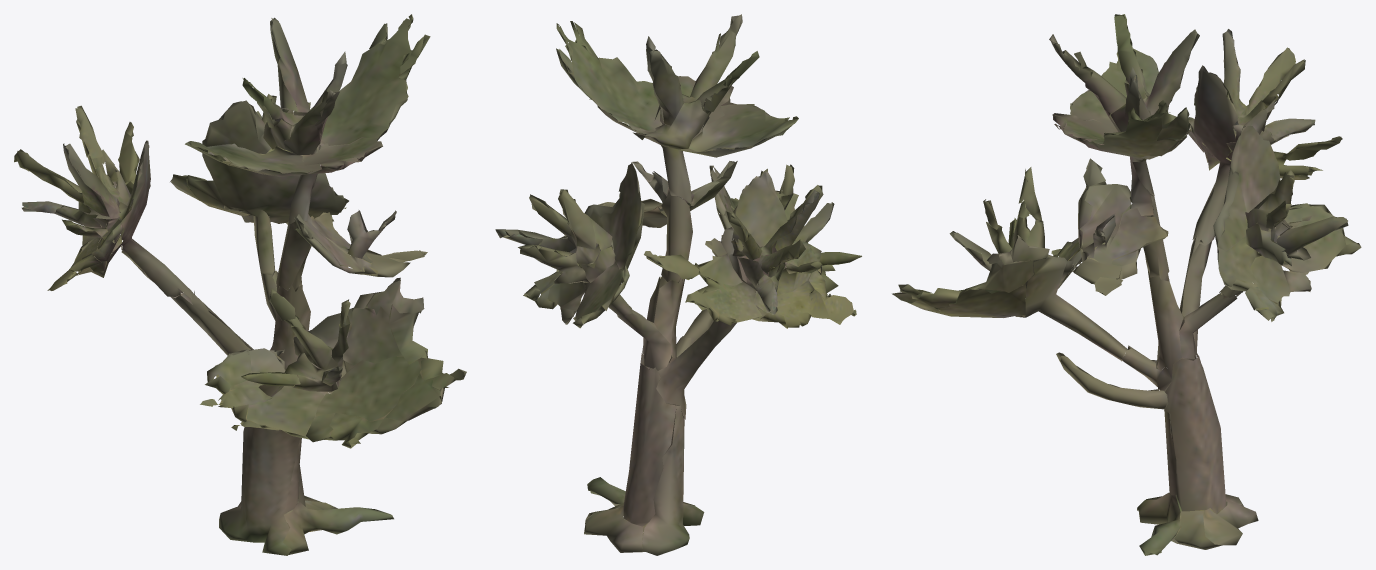
File: deadwood_01_lod1.glb
The picture shows the model from 3 angles, left to right: view 1: azimuth 30°, elevation 25°; view 2: azimuth 150°, elevation 25°; view 3: azimuth 270°, elevation 25°; orthographic projection. The views are drawn at different scales.
Parts seen in each view (by area): view 1: candidate_010_lod1; view 2: candidate_010_lod1; view 3: candidate_010_lod1.
Boxes of the visible parts, left/top/right/bottom form: candidate_010_lod1: left=14, top=14, right=466, bottom=555; candidate_010_lod1: left=495, top=14, right=861, bottom=555; candidate_010_lod1: left=892, top=14, right=1361, bottom=555.
Bounding box in the file's own units: 0.1302 × 0.1893 × 0.1637.
1 material, 1 textured.
